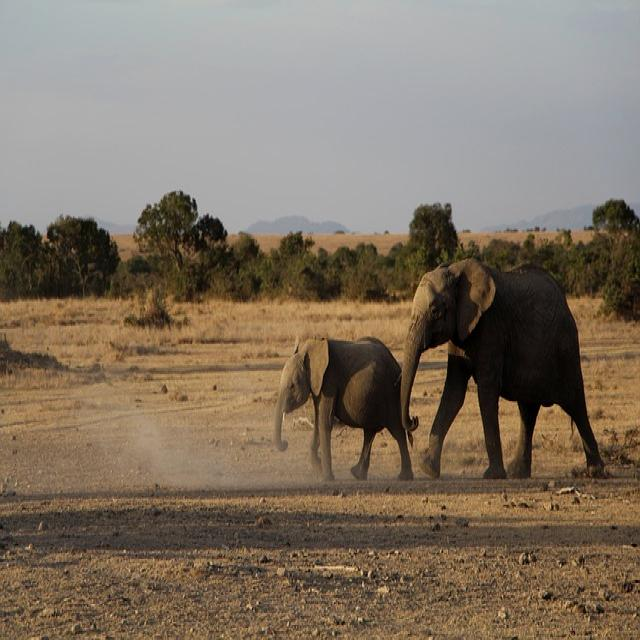FIL: (401, 255, 606, 480), (271, 332, 414, 481)
